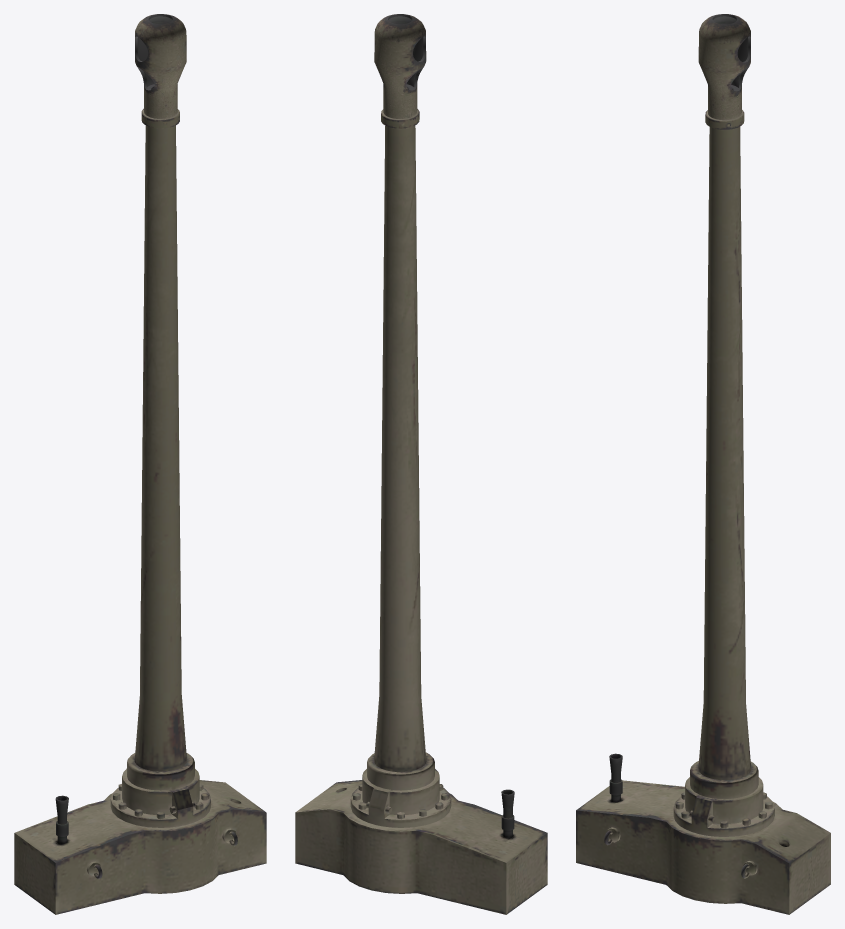
File: Gun_02.glb
The picture shows the model from 3 angles, left to right: view 1: azimuth 30°, elevation 25°; view 2: azimuth 150°, elevation 25°; view 3: azimuth 330°, elevation 25°; orthographic projection.
Parts seen in each view (by area): view 1: set_0_group_0; view 2: set_0_group_0; view 3: set_0_group_0.
Boxes of the visible parts, bbox=[...] form: set_0_group_0: bbox=[14, 14, 266, 914]; set_0_group_0: bbox=[295, 14, 547, 914]; set_0_group_0: bbox=[576, 14, 830, 914].
Bounding box in the file's own units: 1.04 × 4 × 0.4985.
Materials: 1 (1 with a texture image).
